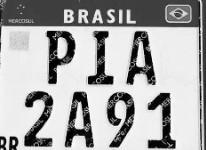placa_mercosul: (0, 1, 203, 149)
